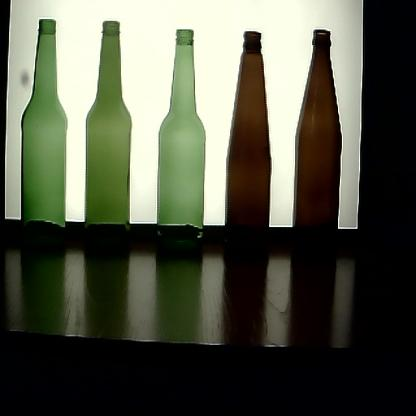Can: (286, 26, 345, 278), (152, 27, 212, 260), (221, 27, 277, 271), (15, 16, 70, 256), (82, 18, 131, 262)
